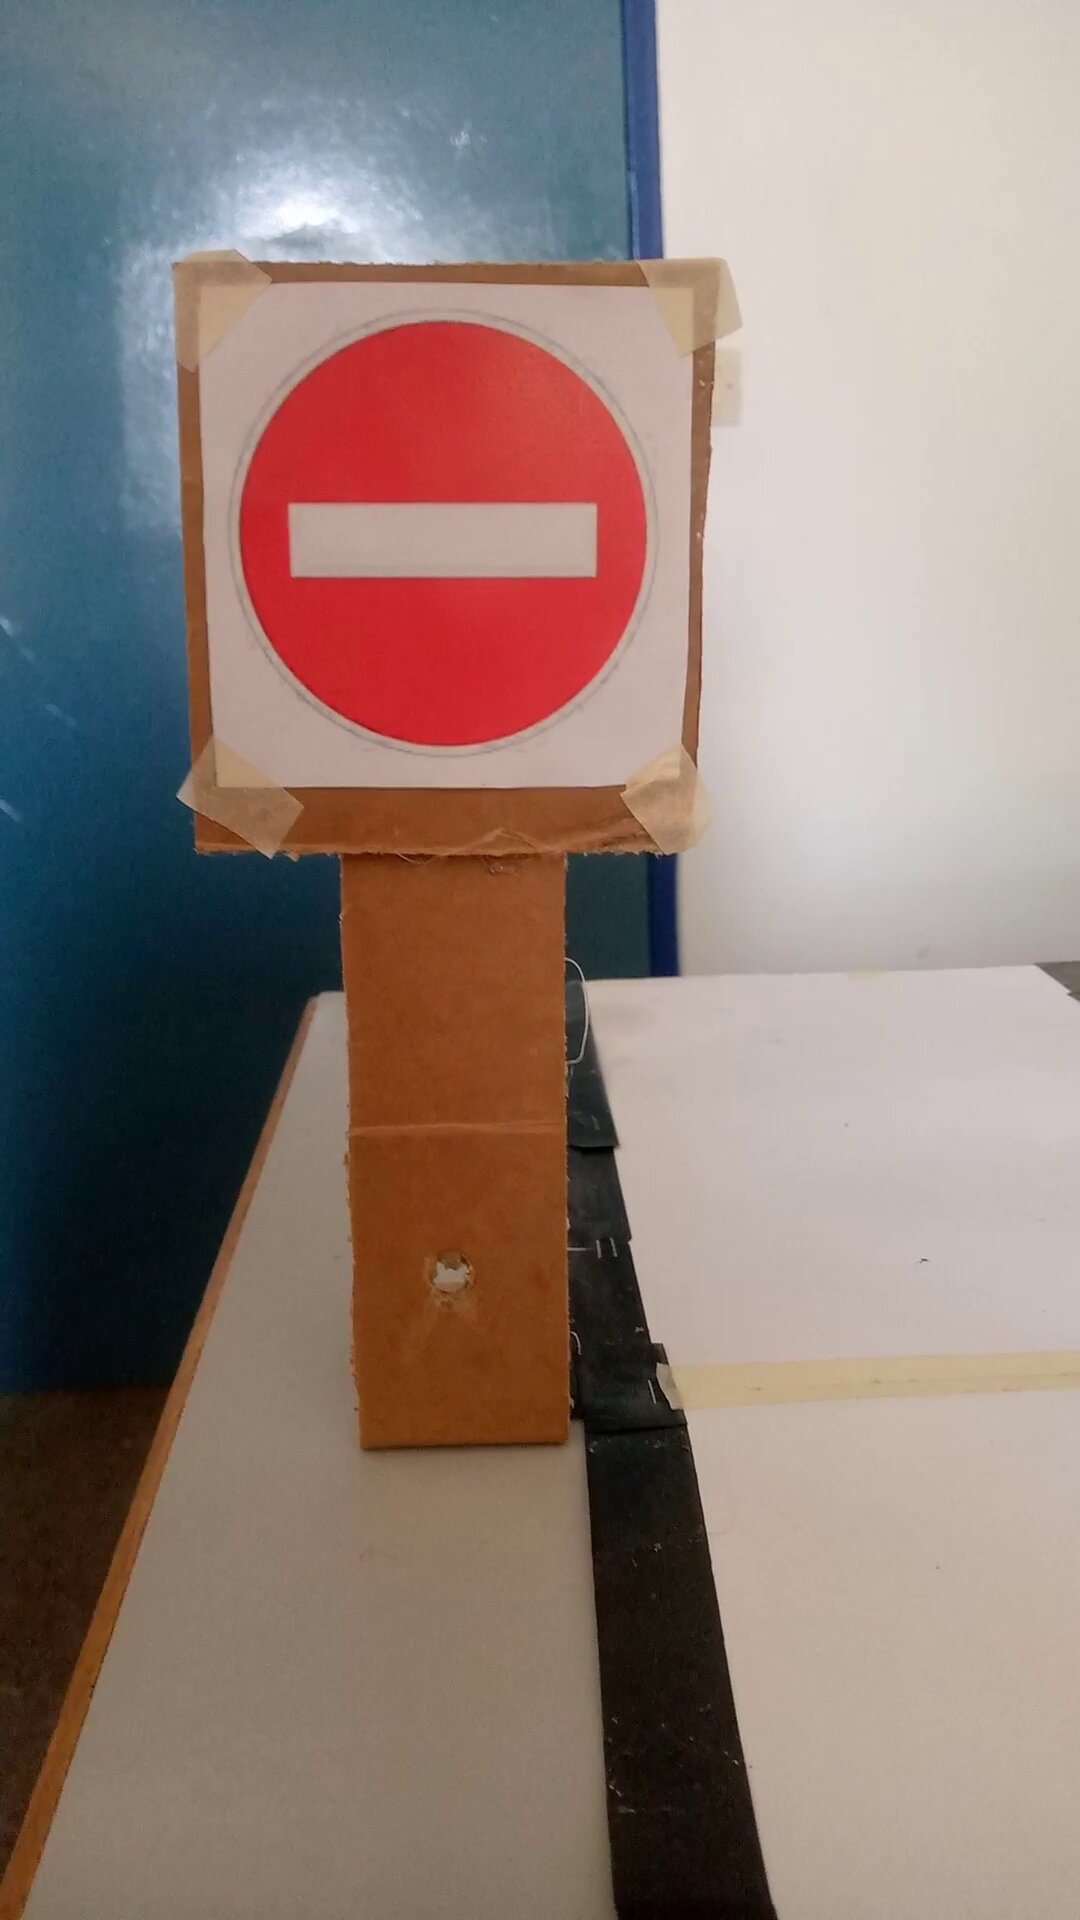panel010: (170, 257, 687, 783)
